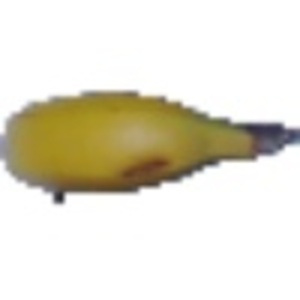banana: (2, 83, 295, 196)
